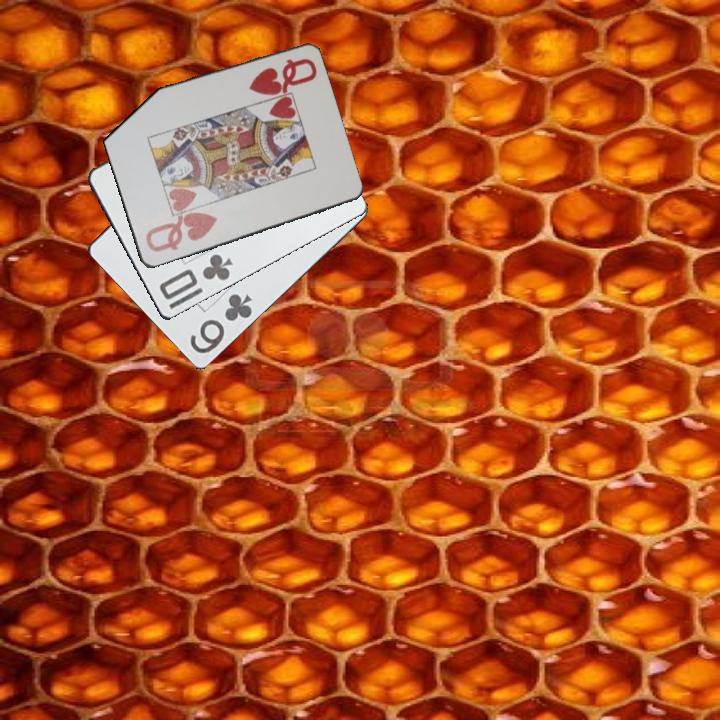6c: (186, 290, 255, 358)
Qh: (142, 208, 220, 255), (245, 55, 319, 99)
Tc: (155, 249, 236, 303)
